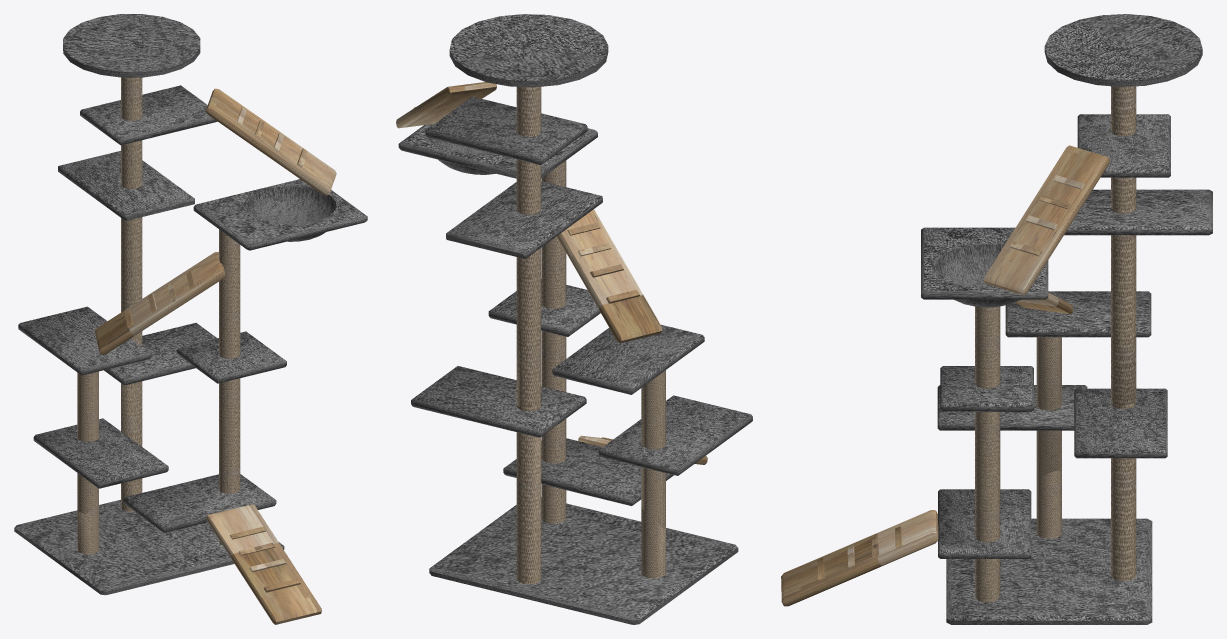
The model's file is CatTower3_Broken.fbx.
3 views of the same model, side by side, from view 1: azimuth 30°, elevation 25°; view 2: azimuth 150°, elevation 25°; view 3: azimuth 270°, elevation 25° (orthographic). The views are drawn at different scales.
Visible parts, largest first — view 1: CatTower3_Broken_Part_5, CatTower3_Broken_Part_4, CatTower3_Broken_Part_6, CatTower3_Broken_Part_2, CatTower3_Broken_Part_7, CatTower3_Broken_Part_3, CatTower3_Broken_Part_9, CatTower3_Broken_Part_10, CatTower3_Broken_Part_1, CatTower3_Broken_Part_12, CatTower3_Broken_Part_11, CatTower3_Broken_Part_8; view 2: CatTower3_Broken_Part_5, CatTower3_Broken_Part_6, CatTower3_Broken_Part_4, CatTower3_Broken_Part_3, CatTower3_Broken_Part_8, CatTower3_Broken_Part_2, CatTower3_Broken_Part_11, CatTower3_Broken_Part_12, CatTower3_Broken_Part_9, CatTower3_Broken_Part_10, CatTower3_Broken_Part_1; view 3: CatTower3_Broken_Part_5, CatTower3_Broken_Part_4, CatTower3_Broken_Part_2, CatTower3_Broken_Part_6, CatTower3_Broken_Part_3, CatTower3_Broken_Part_10, CatTower3_Broken_Part_8, CatTower3_Broken_Part_7, CatTower3_Broken_Part_12, CatTower3_Broken_Part_9, CatTower3_Broken_Part_11, CatTower3_Broken_Part_1.
Boxes of the visible parts, left/top/right/bottom form: CatTower3_Broken_Part_5: left=14, top=459, right=284, bottom=595; CatTower3_Broken_Part_4: left=63, top=14, right=285, bottom=143; CatTower3_Broken_Part_6: left=18, top=283, right=173, bottom=488; CatTower3_Broken_Part_2: left=168, top=135, right=367, bottom=299; CatTower3_Broken_Part_7: left=212, top=497, right=321, bottom=624; CatTower3_Broken_Part_3: left=58, top=109, right=202, bottom=283; CatTower3_Broken_Part_9: left=121, top=77, right=240, bottom=299; CatTower3_Broken_Part_10: left=219, top=293, right=240, bottom=544; CatTower3_Broken_Part_1: left=172, top=297, right=286, bottom=383; CatTower3_Broken_Part_12: left=77, top=283, right=142, bottom=514; CatTower3_Broken_Part_11: left=77, top=381, right=142, bottom=554; CatTower3_Broken_Part_8: left=120, top=323, right=216, bottom=381; CatTower3_Broken_Part_5: left=436, top=395, right=738, bottom=624; CatTower3_Broken_Part_6: left=552, top=245, right=752, bottom=475; CatTower3_Broken_Part_4: left=417, top=14, right=608, bottom=161; CatTower3_Broken_Part_3: left=446, top=118, right=602, bottom=261; CatTower3_Broken_Part_8: left=411, top=366, right=562, bottom=576; CatTower3_Broken_Part_2: left=396, top=106, right=611, bottom=261; CatTower3_Broken_Part_11: left=516, top=403, right=665, bottom=584; CatTower3_Broken_Part_12: left=516, top=318, right=665, bottom=528; CatTower3_Broken_Part_9: left=516, top=86, right=566, bottom=332; CatTower3_Broken_Part_10: left=541, top=244, right=566, bottom=523; CatTower3_Broken_Part_1: left=488, top=241, right=614, bottom=336; CatTower3_Broken_Part_5: left=922, top=408, right=1152, bottom=624; CatTower3_Broken_Part_4: left=1035, top=14, right=1202, bottom=237; CatTower3_Broken_Part_2: left=921, top=196, right=1061, bottom=307; CatTower3_Broken_Part_6: left=937, top=291, right=1151, bottom=430; CatTower3_Broken_Part_3: left=1064, top=114, right=1212, bottom=235; CatTower3_Broken_Part_10: left=975, top=313, right=1000, bottom=602; CatTower3_Broken_Part_8: left=1074, top=388, right=1167, bottom=624; CatTower3_Broken_Part_7: left=781, top=514, right=945, bottom=606; CatTower3_Broken_Part_12: left=1036, top=320, right=1136, bottom=482; CatTower3_Broken_Part_9: left=975, top=86, right=1136, bottom=332; CatTower3_Broken_Part_11: left=1036, top=403, right=1136, bottom=581; CatTower3_Broken_Part_1: left=940, top=366, right=1033, bottom=411.
Bounding box in the file's own units: 431 × 705 × 513.
